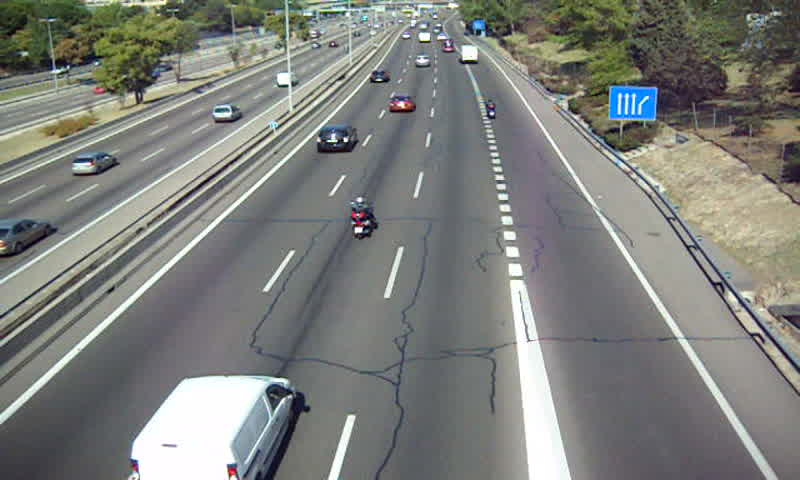car: (313, 125, 357, 152), (388, 94, 415, 112), (368, 68, 390, 83), (413, 54, 429, 68)
motorcycle: (349, 196, 376, 240), (485, 97, 496, 120)
van: (129, 374, 294, 480), (459, 44, 479, 63)
